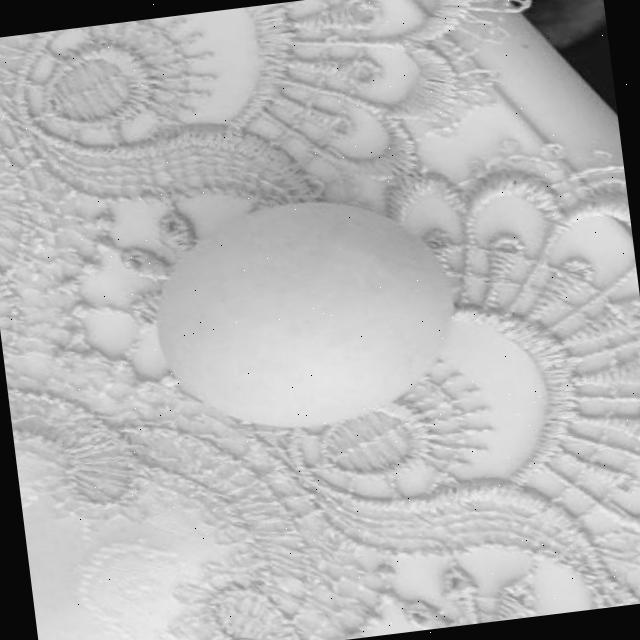ping-pong-ball: (150, 190, 466, 444)
